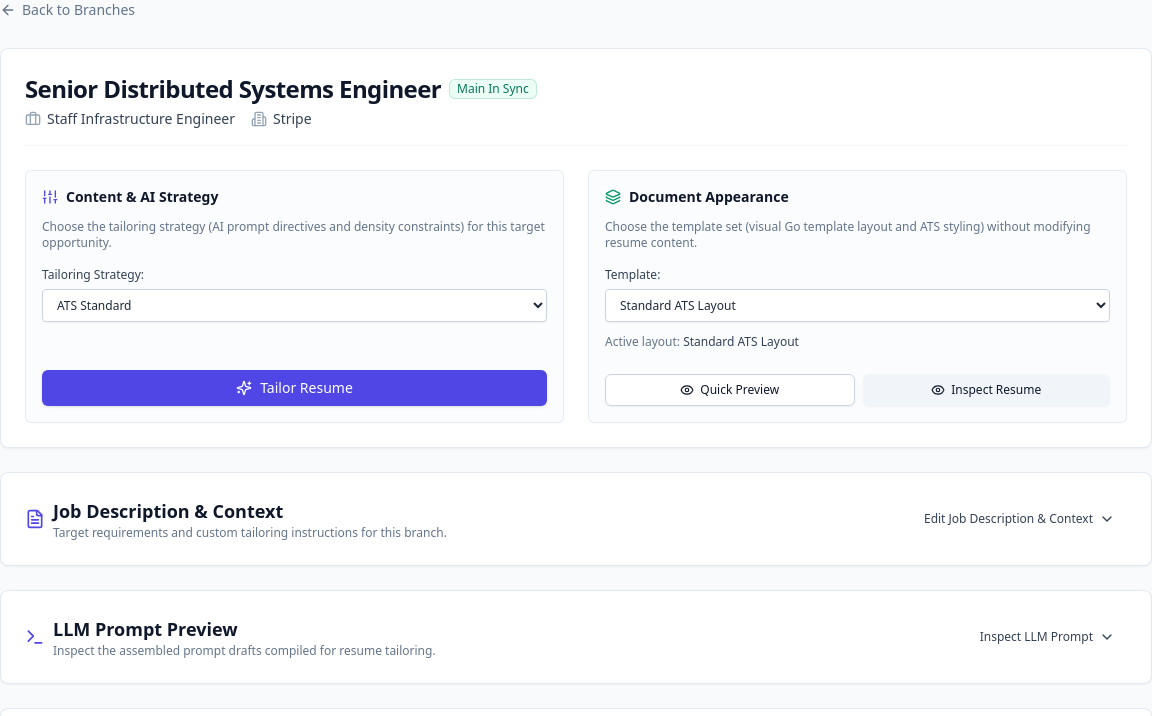
Scenario: BranchWorkbenchPage › renders collapsible prompt preview and fetches prompt draft upon expanding
Expected: the heading "Senior Distributed Systems Engineer" is shown, [25, 73, 441, 105]
Click the button "Inspect LLM Prompt": (1047, 637) [968, 621, 1127, 653]
(page scrolled)
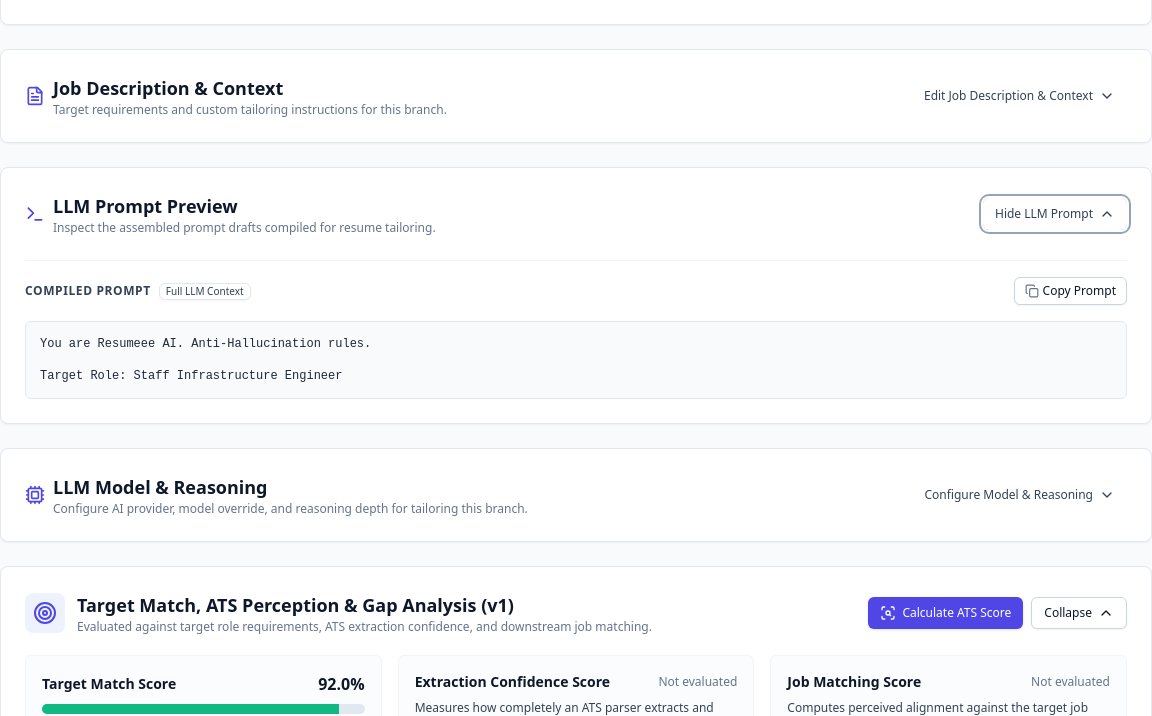
Result: the button named "inspect llm prompt" is expanded at [983, 198, 1127, 230]
Result: the text "target role: staff infrastructure engineer" is shown at [40, 337, 371, 383]
